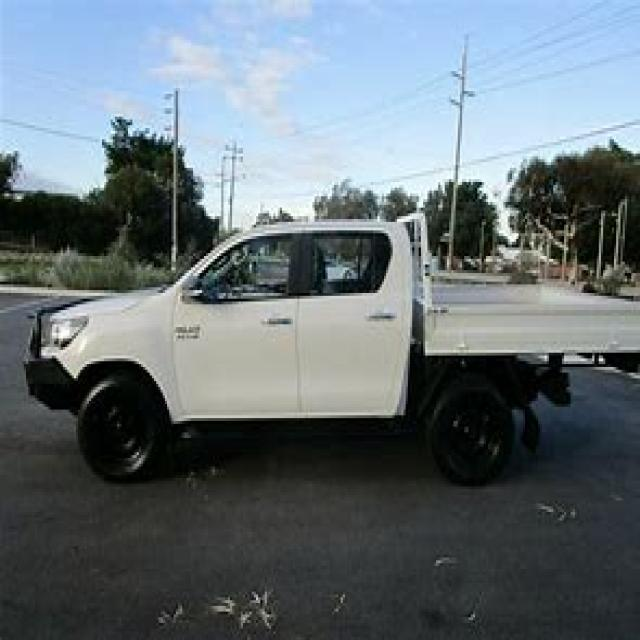light_vehicle: (17, 199, 638, 509)
